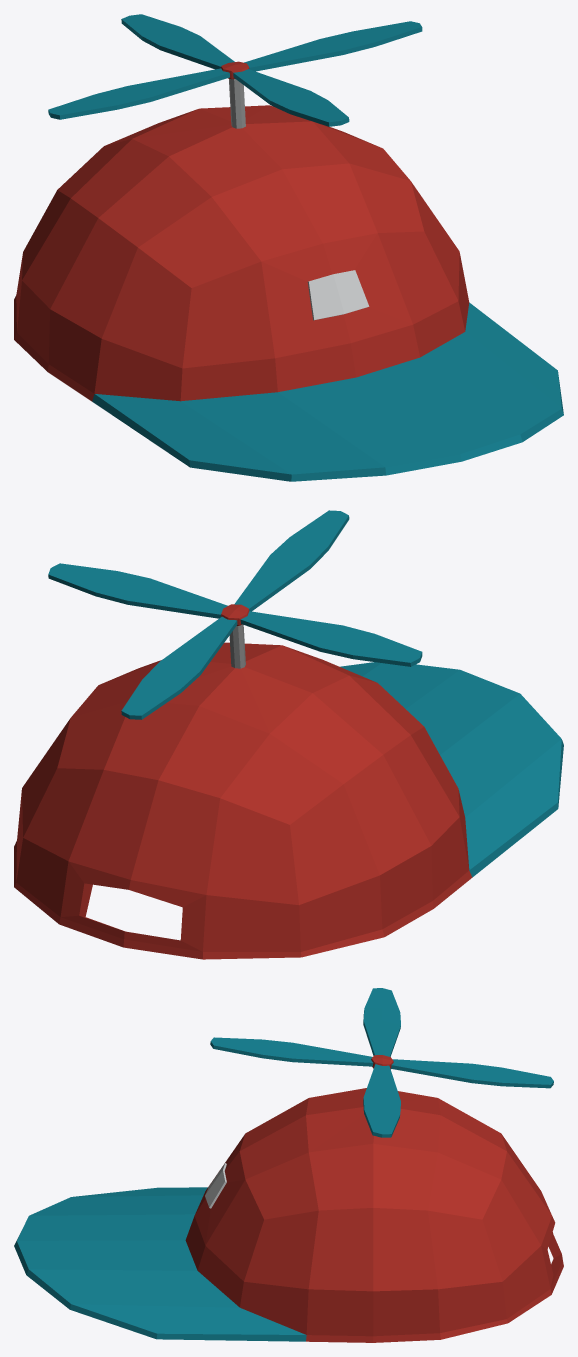
File: propeller_hat.glb
The picture shows the model from 3 angles, top to bottom: view 1: azimuth 30°, elevation 25°; view 2: azimuth 150°, elevation 25°; view 3: azimuth 270°, elevation 25°; orthographic projection. The views are drawn at different scales.
Parts seen in each view (by area): view 1: PropellerCap_01_Roundcube.001; view 2: PropellerCap_01_Roundcube.001; view 3: PropellerCap_01_Roundcube.001.
Boxes of the visible parts, bbox=[...] form: PropellerCap_01_Roundcube.001: bbox=[14, 14, 563, 481]; PropellerCap_01_Roundcube.001: bbox=[14, 510, 563, 959]; PropellerCap_01_Roundcube.001: bbox=[14, 988, 563, 1342].
Bounding box in the file's own units: 6.77 × 4.64 × 10.27.
1 material, 1 textured.
